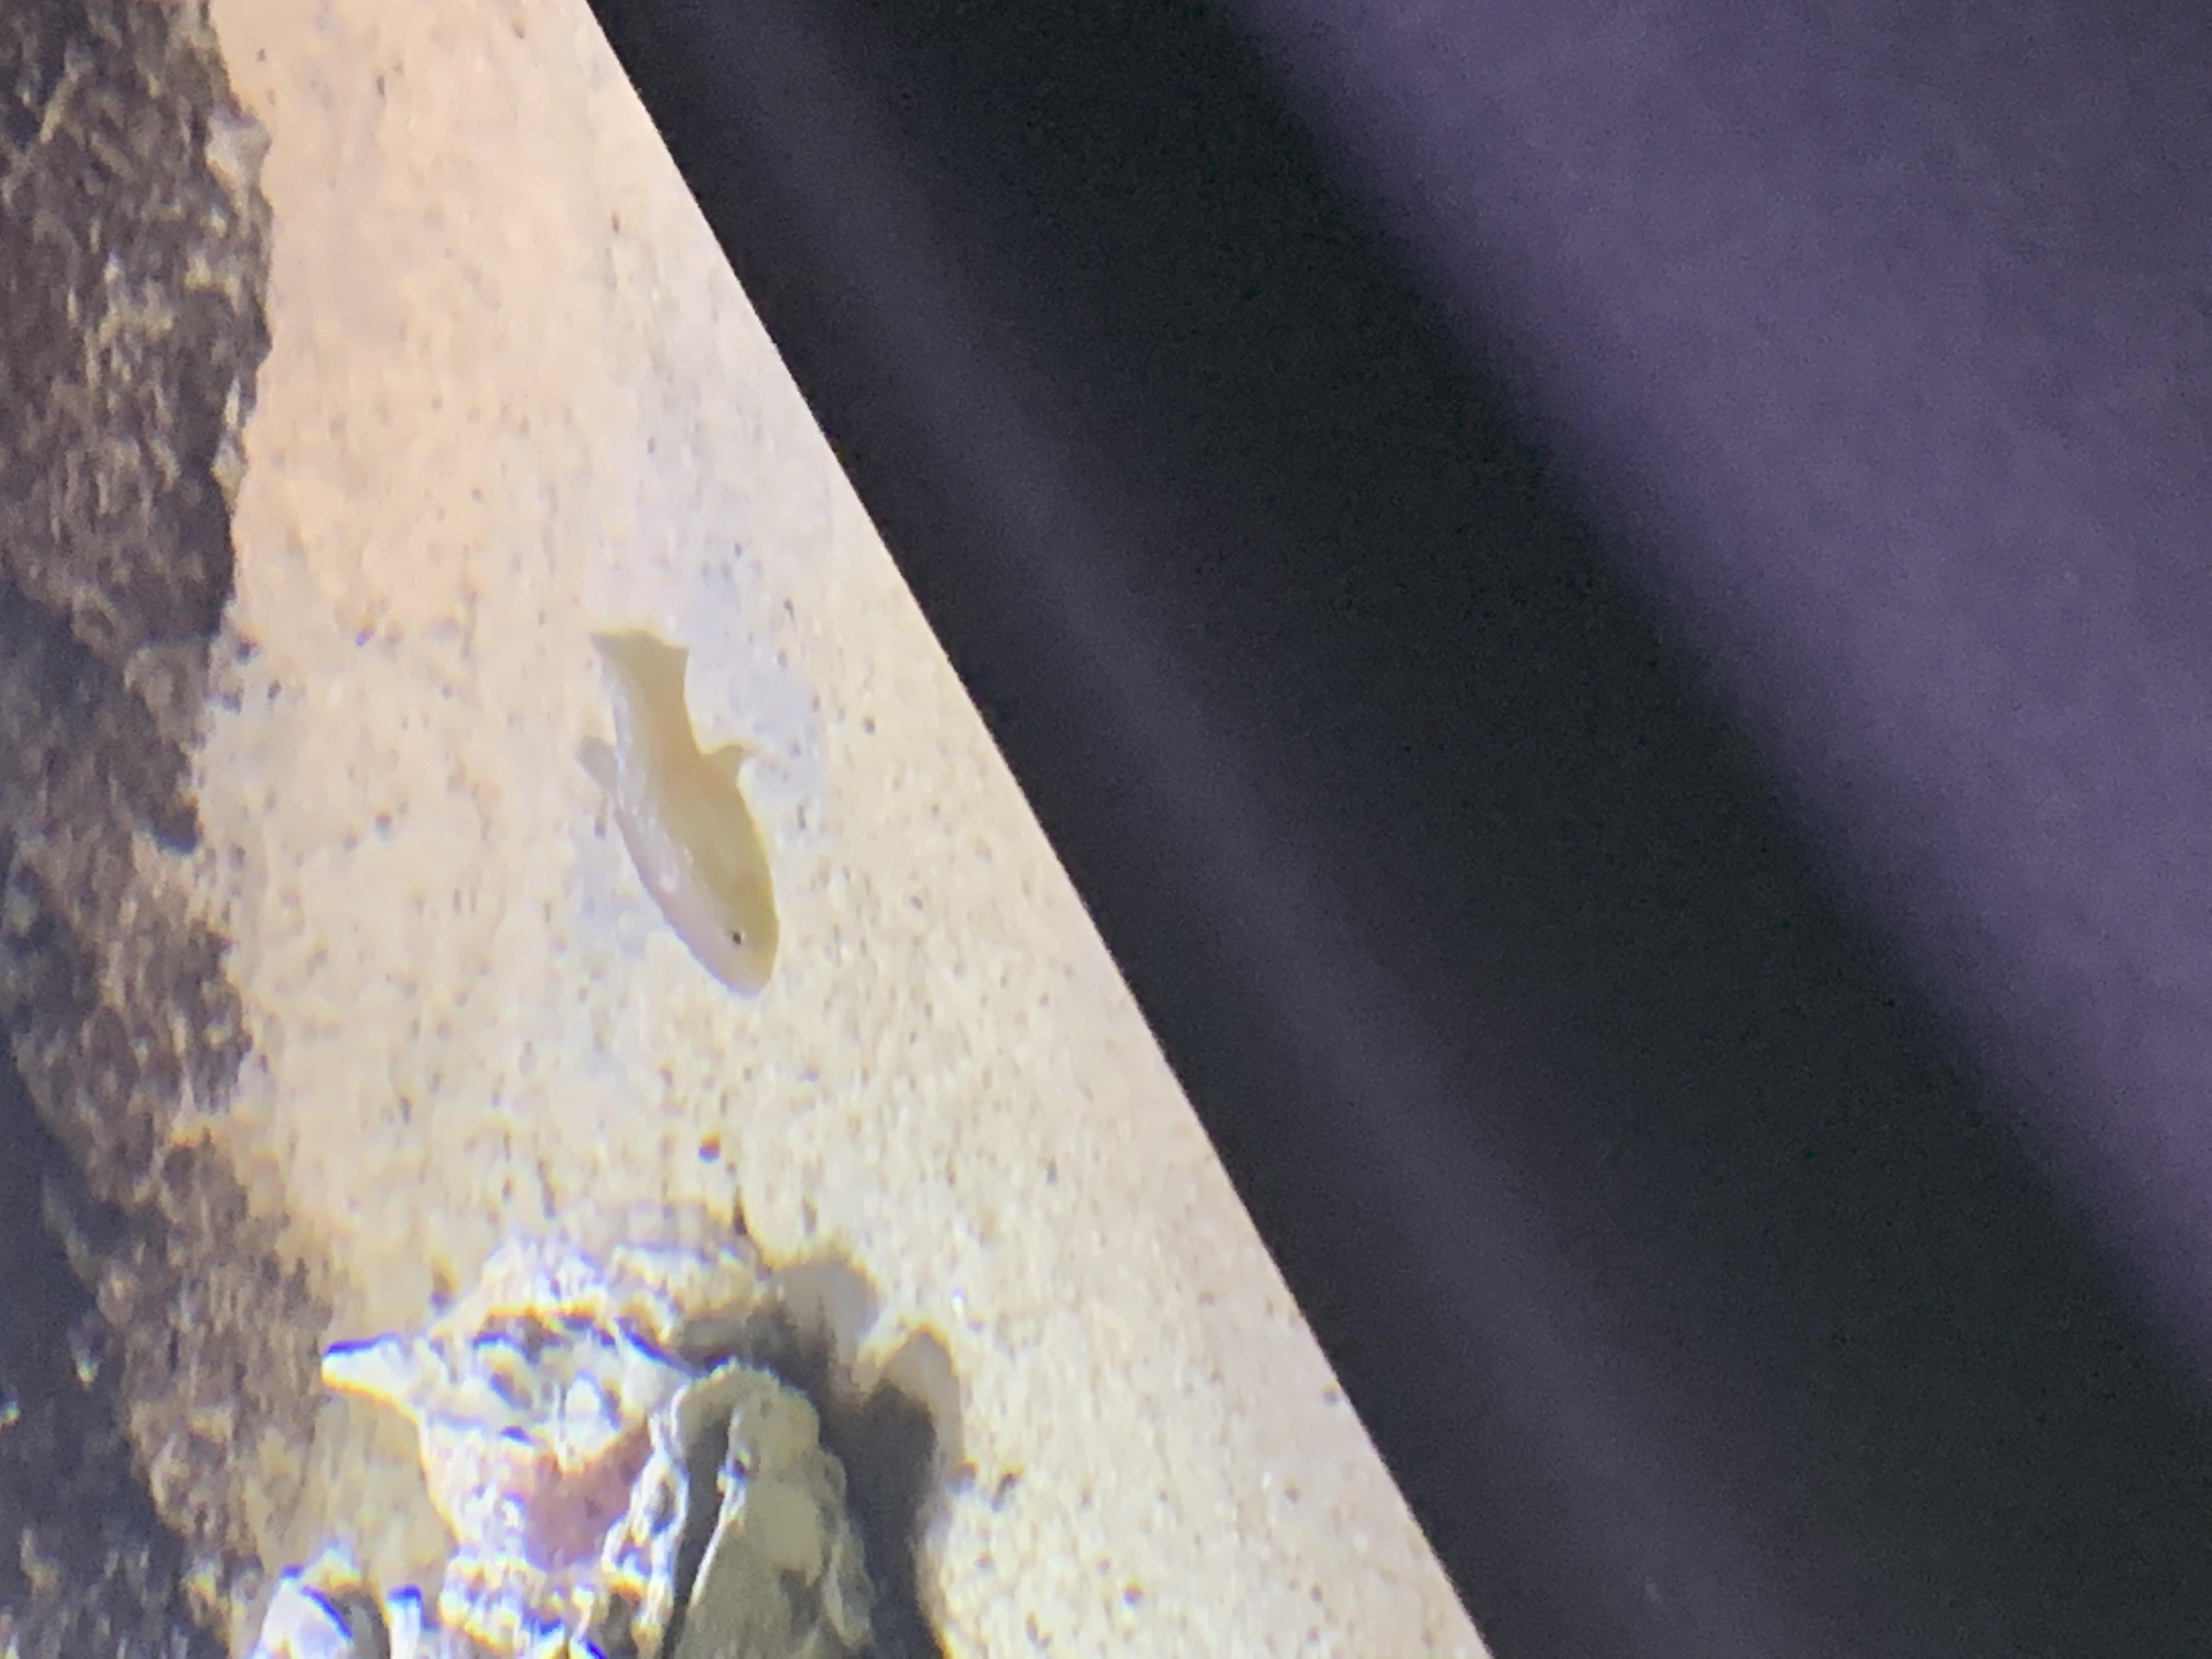fish: (554, 619, 780, 995)
